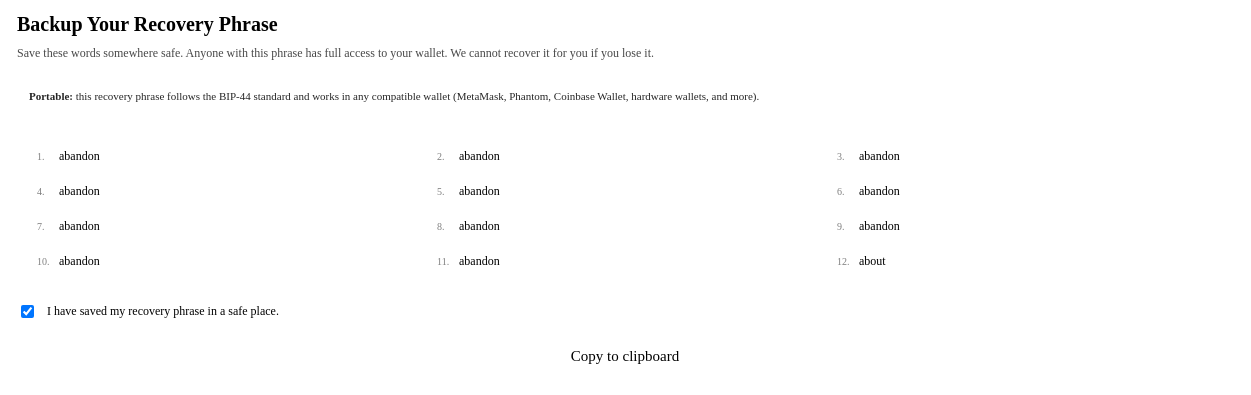
Scenario: MnemonicDisplay (B5.1, Pattern B) › shows "Copied!" transient after successful copy
Step 1. Click the button "Copy to clipboard" → (625, 356), box x1=17 y1=336 x2=1233 y2=376
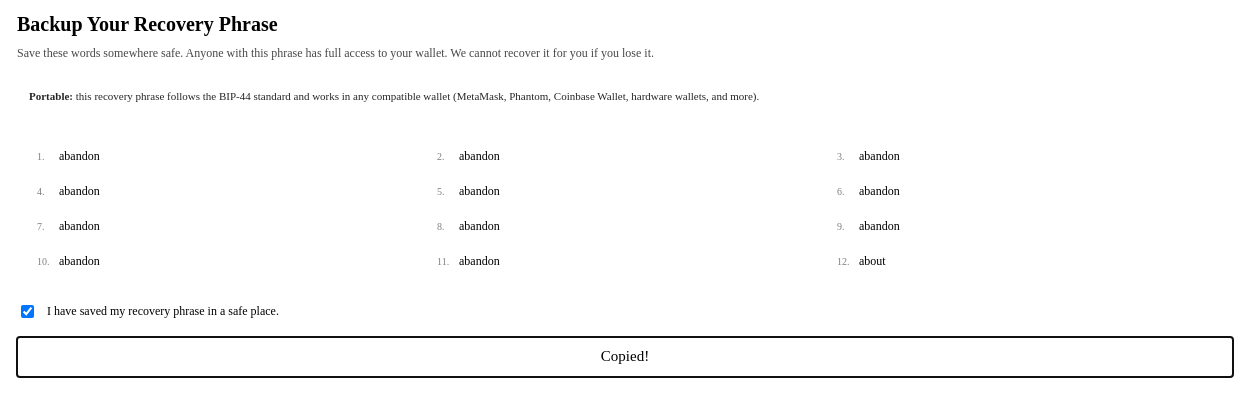
Now the button "Copied!" is shown, box x1=17 y1=336 x2=1233 y2=376
